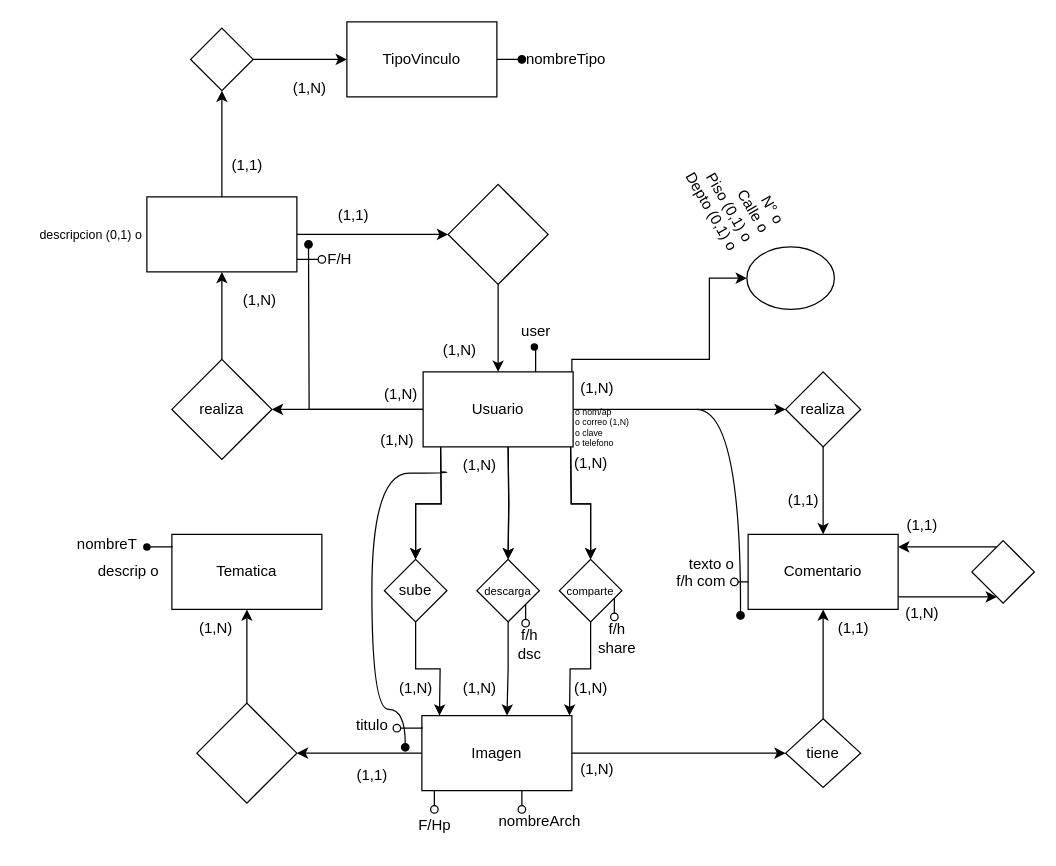
Some shapes in this 1056 by 866 pixel diagram are drawn without their labels. Each missing label, with the centre of its shape:
"Direccion" goes at [790,277].
"tiene2" goes at [246,752].
"tiene3" goes at [1002,571].
"tiene4" goes at [221,59].
"vincula" goes at [497,233].
"Vinculo" goes at [221,234].
